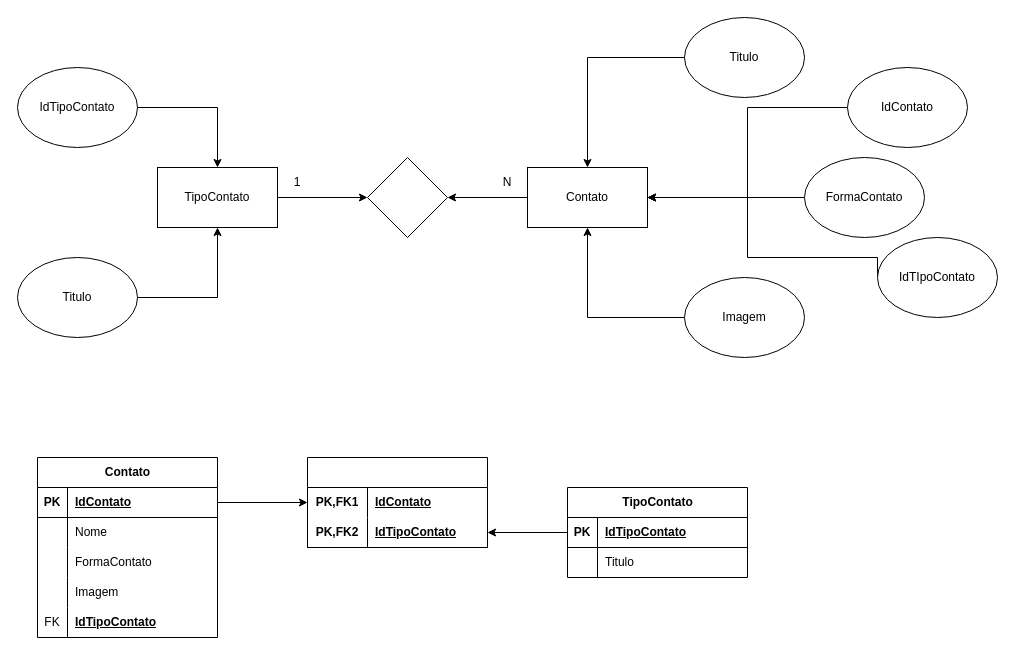
Some shapes in this 1015 by 655 pixel diagram are drawn without their labels. Each missing label, with the box of its shape:
está: (366, 156, 448, 238)
Table: (306, 456, 488, 548)
